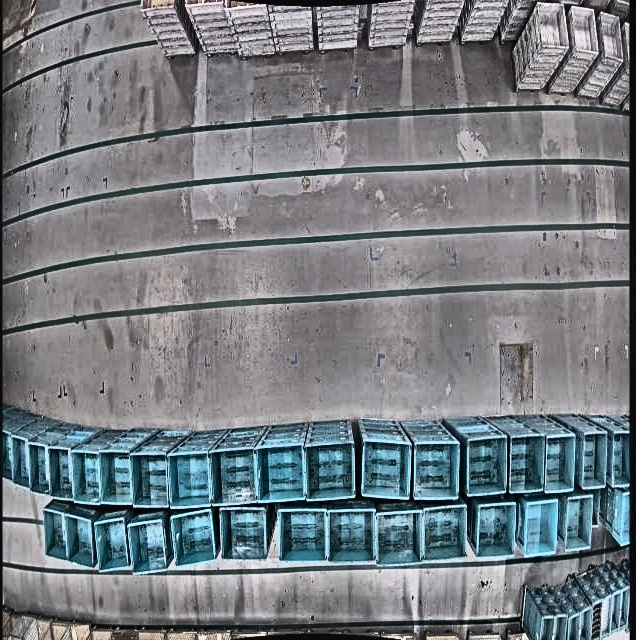Box: (305, 438, 357, 501), (361, 436, 411, 500), (412, 436, 460, 501), (327, 505, 376, 566), (278, 505, 327, 566), (421, 501, 468, 563), (219, 504, 268, 563), (259, 442, 306, 503), (374, 507, 420, 567), (465, 434, 508, 498), (474, 499, 518, 561), (167, 449, 212, 509), (172, 508, 216, 569), (217, 445, 258, 506), (127, 516, 167, 575), (523, 497, 558, 557), (94, 515, 130, 572), (543, 430, 575, 491), (136, 451, 169, 508), (563, 493, 594, 552), (514, 432, 544, 492), (65, 513, 95, 568), (74, 447, 102, 504), (579, 429, 606, 488), (106, 448, 133, 505), (43, 506, 67, 564), (49, 445, 73, 500), (28, 439, 50, 493), (610, 429, 630, 487), (609, 488, 629, 545), (12, 434, 29, 490), (619, 582, 630, 635), (2, 429, 13, 482), (601, 593, 612, 640), (138, 0, 175, 11), (537, 615, 553, 640), (554, 612, 568, 640), (580, 605, 591, 640), (592, 598, 601, 640), (568, 612, 580, 640), (612, 589, 619, 637)
